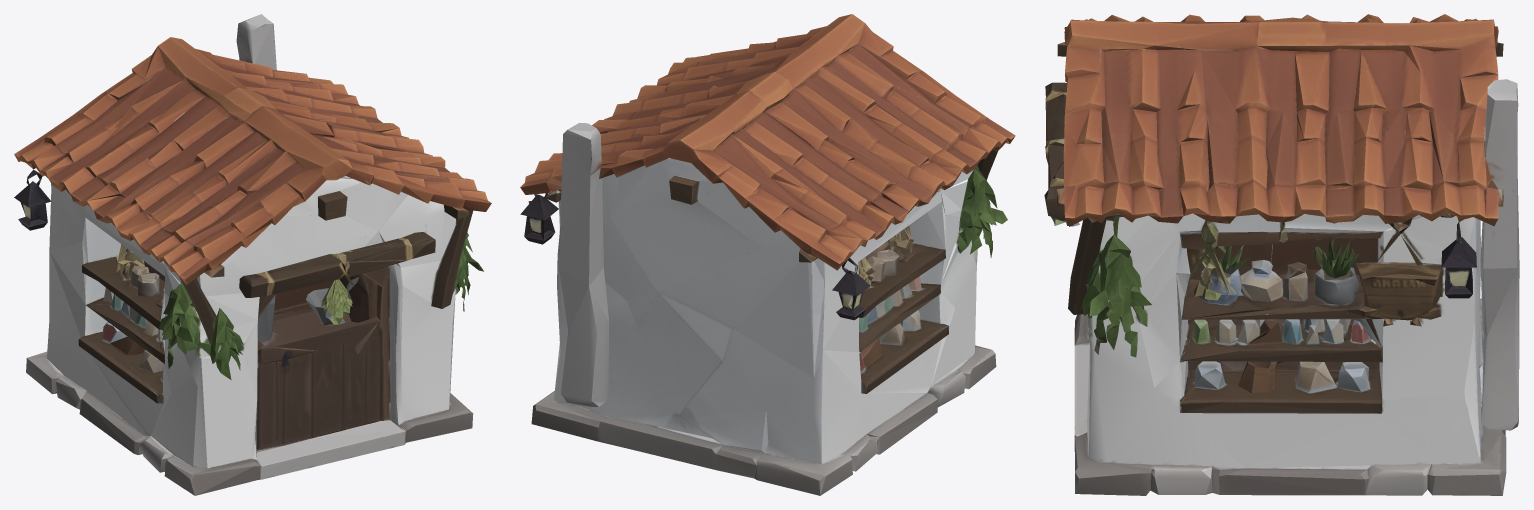
The model's file is herb_shop.glb.
3 renders of one model, left to right at view 1: azimuth 30°, elevation 25°; view 2: azimuth 150°, elevation 25°; view 3: azimuth 270°, elevation 25°, orthographic. The views are drawn at different scales.
Visible parts, largest first — view 1: herb_shop; view 2: herb_shop; view 3: herb_shop.
Boxes of the visible parts, box(x1,y1,x2,y2) form: herb_shop: box(14, 14, 491, 495); herb_shop: box(520, 14, 1015, 495); herb_shop: box(1044, 14, 1519, 495).
Size of the model in its own units: 6.11 by 5.5 by 6.08.
1 material, 1 textured.
